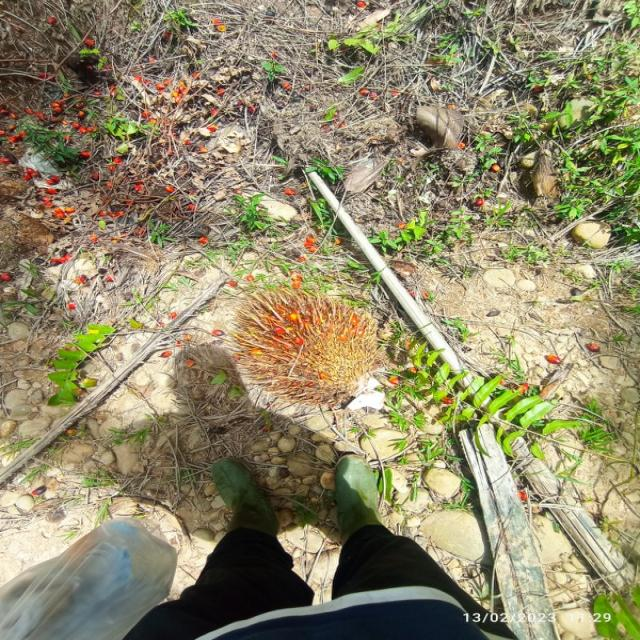fraksi 4: (208, 269, 401, 413)
